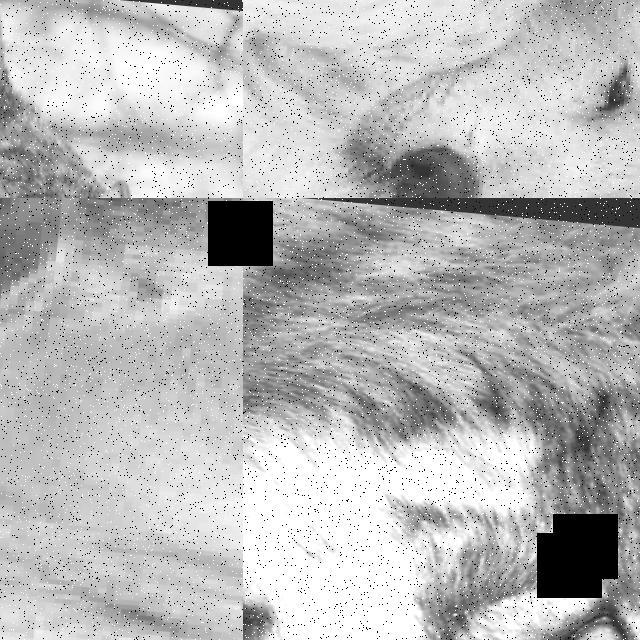dog: (0, 198, 243, 640)
wolf: (243, 198, 640, 640), (243, 0, 640, 198), (361, 0, 640, 198), (0, 0, 243, 198)
